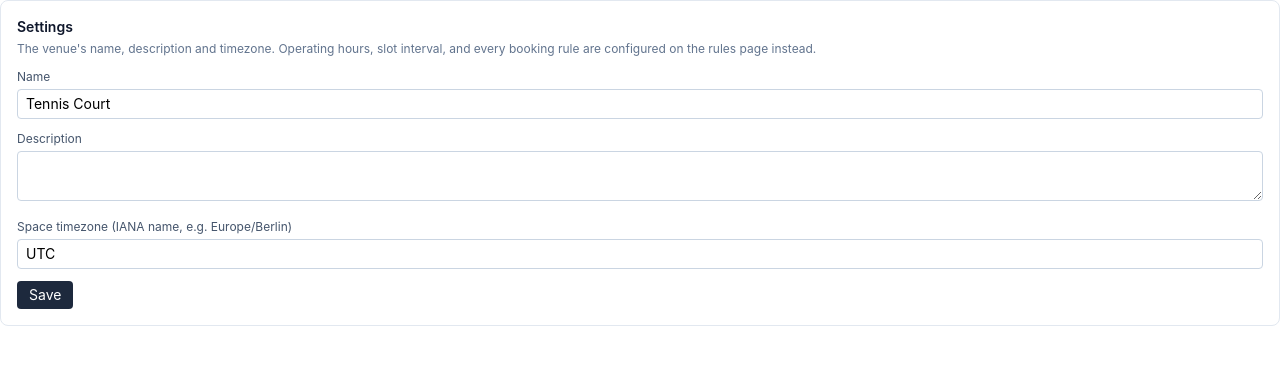
SpaceSettingsPanel › resolves a member acting between render and click to forbidden
The width and height of the screenshot is (1280, 371).
Click the button with test id "settings-save" at x=45, y=295, box [17,281,73,309]
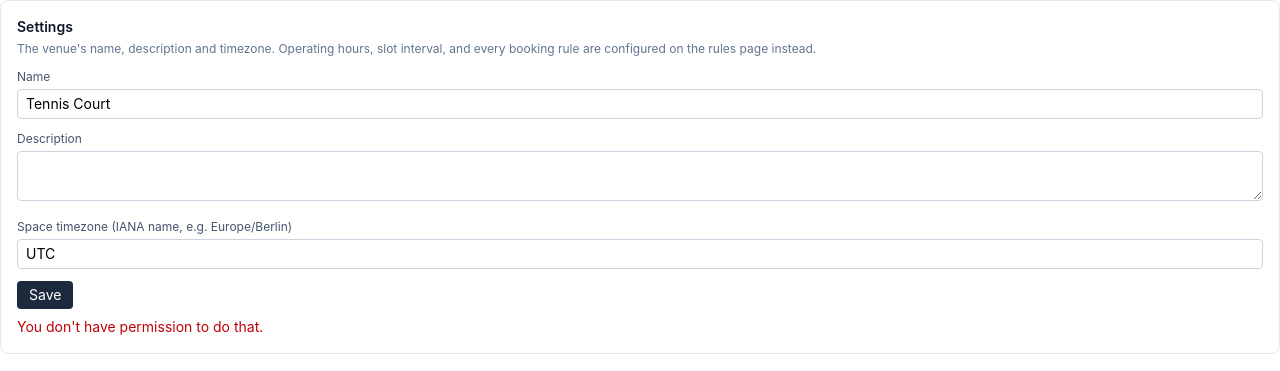
Check: the message with test id "settings-error" reads "You don't have permission to do that.", box [17,318,263,335]
